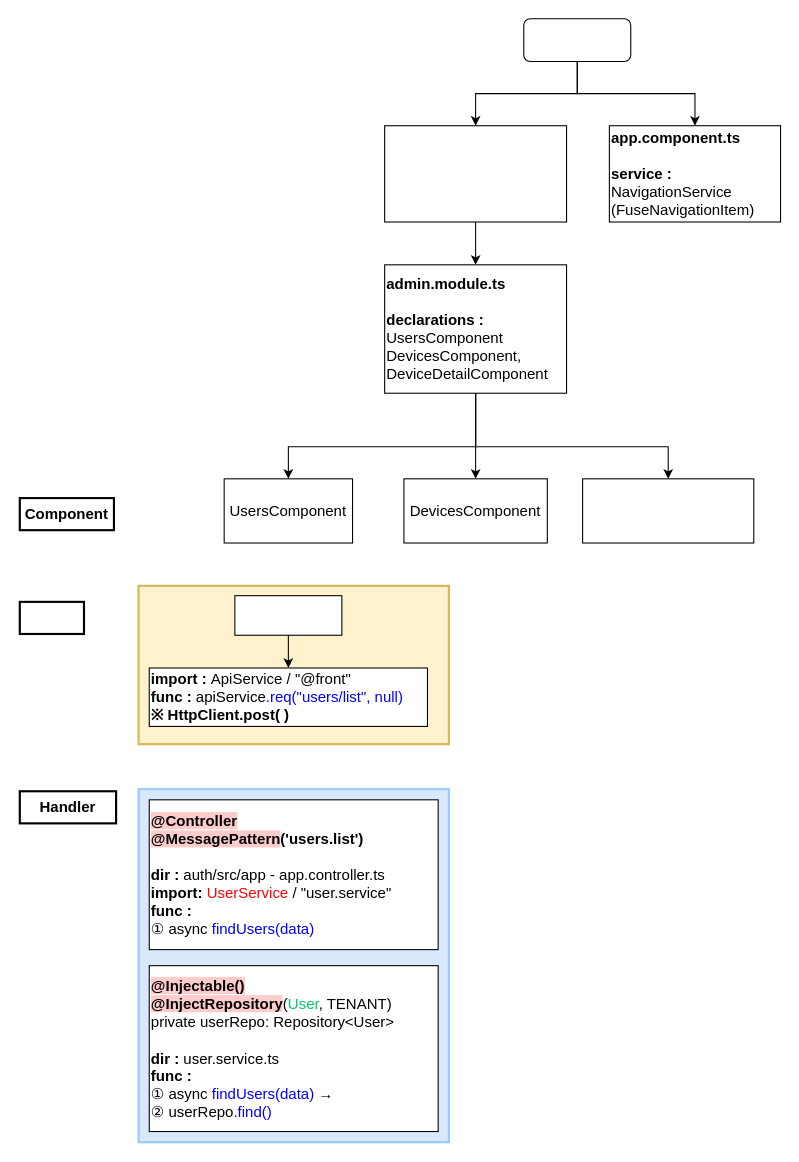
Image size: 799x1162. Some labels were removed from this diagram. The centre of each missing label's shape, as x and y in pixels:
app.routing.ts path : "admin" lazy-loading : "admin.module": (x=475, y=173)
Call: (x=51, y=617)
DeviceDetailComponent: (x=668, y=510)
INIT: (x=577, y=40)
loadUsers(): (x=288, y=615)
